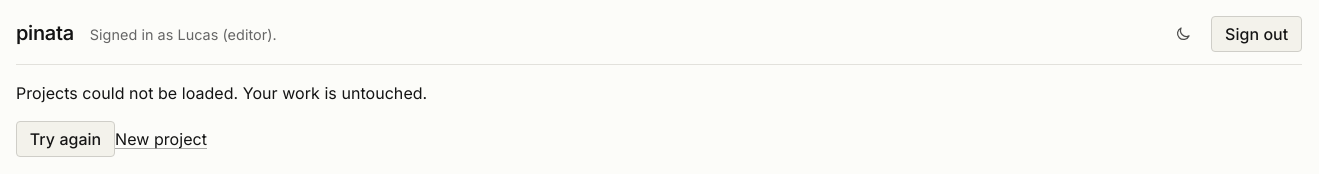
editor project-entry states › a failed read offers one single-flight retry and keeps sign-out available
Check: the message shows "could not be loaded", box [16, 83, 427, 103]
Check: the button "Sign out" is enabled, box [1211, 16, 1302, 52]
Click the button "Try again" at (66, 139), box [16, 121, 115, 157]
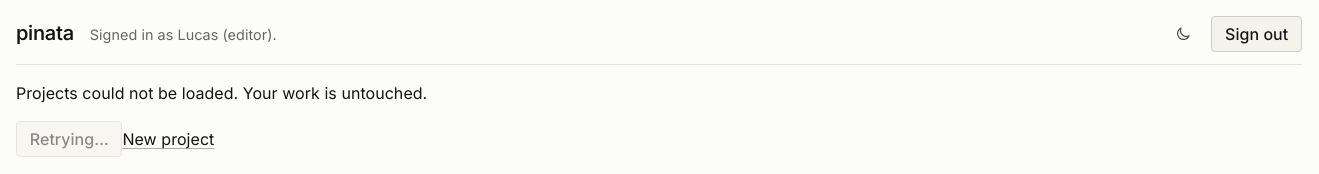
Check: the button "Retrying…" is disabled
Click the button "Retrying…" at (69, 139), box [16, 121, 122, 157]
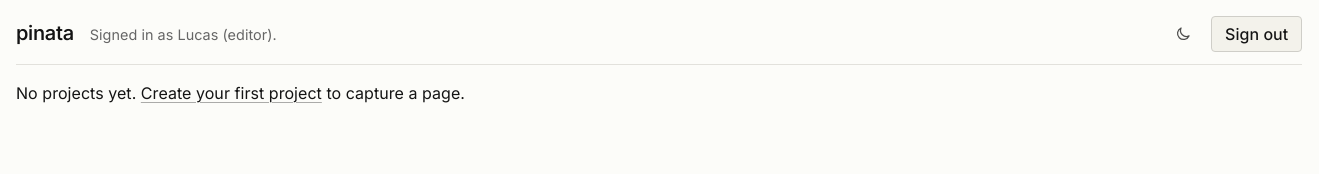
Check: the text "No projects yet" is shown, box [16, 83, 141, 103]
Check: the message "Projects could not be loaded. Your work is untouched." is gone
